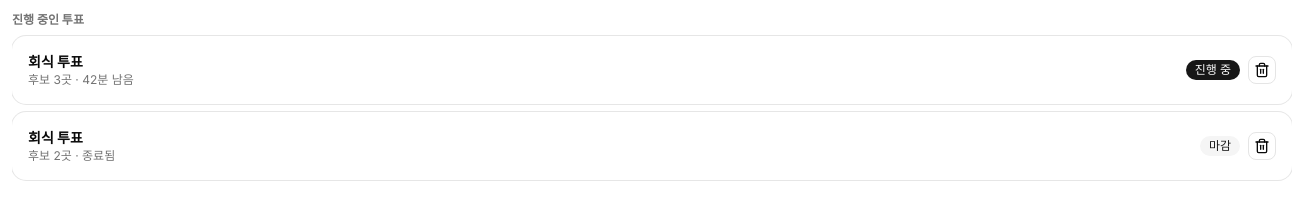
Test case: ActiveVotesList › 투표 삭제 버튼 클릭 → DELETE 요청 후 목록에서 사라진다
The width and height of the screenshot is (1292, 198).
Click the button named "투표 삭제" in the row of "42분 남음" at (1262, 70), box [1248,56,1276,84]
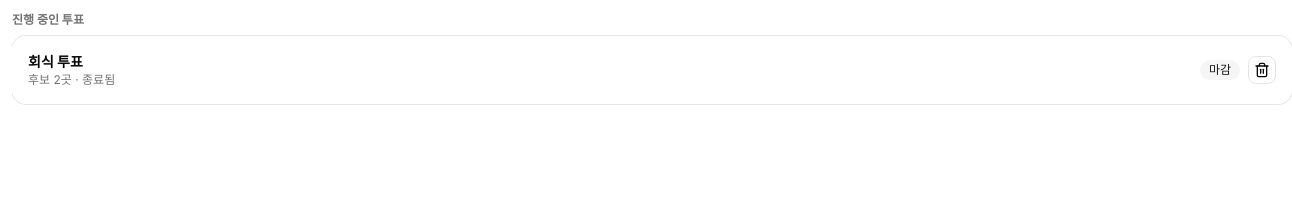
Expected: the text "후보 2곳" is shown, [28,72,115,87]
Now the link "후보 3곳" is gone
